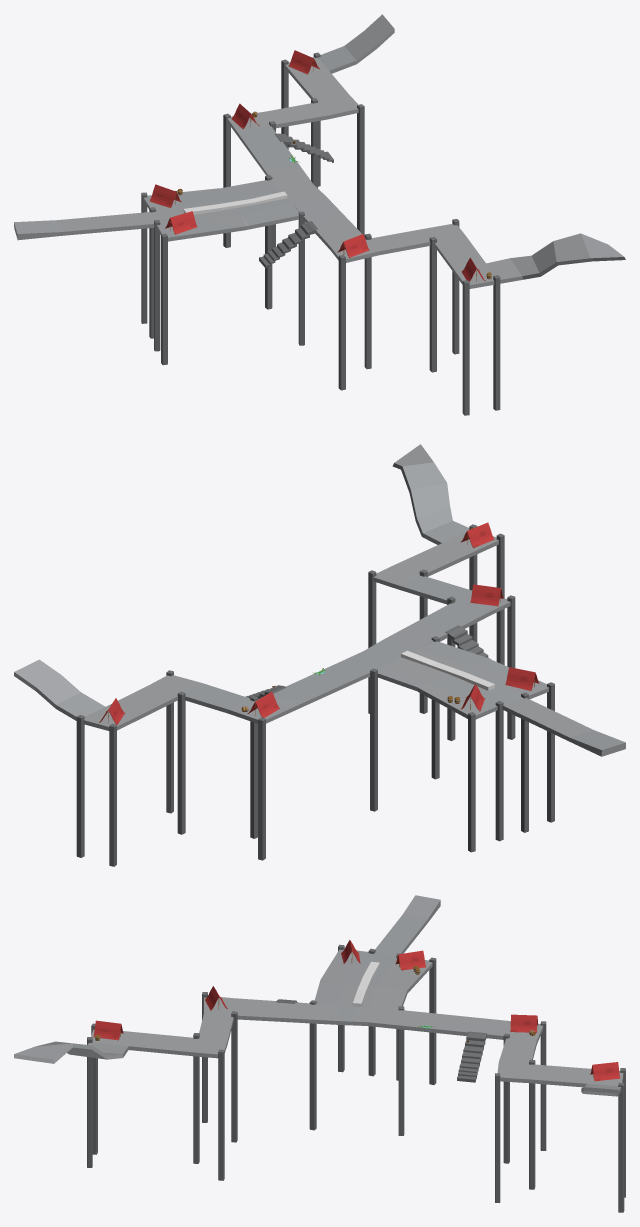
File: village1.glb
3 views of the same model, one above another, from view 1: azimuth 30°, elevation 25°; view 2: azimuth 150°, elevation 25°; view 3: azimuth 270°, elevation 25° (orthographic). The views are drawn at different scales.
Visible parts, largest first — view 1: Plane.002, Cube.018, Plane.005, Plane, Cube; view 2: Plane.002, Cube.018, Plane.005, Cube, Plane; view 3: Plane.002, Cube.018, Plane.005, Plane, Cube.
Part boxes in pixels (x1,y1,x2,y2): Plane.002: (14, 14, 625, 288); Cube.018: (141, 52, 500, 415); Plane.005: (149, 50, 485, 281); Plane: (259, 133, 333, 268); Cube: (183, 191, 287, 214); Plane.002: (14, 444, 625, 756); Cube.018: (76, 524, 554, 866); Plane.005: (99, 522, 539, 724); Cube: (401, 650, 494, 690); Plane: (245, 625, 490, 699); Plane.002: (14, 895, 623, 1096); Cube.018: (87, 944, 625, 1212); Plane.005: (93, 940, 620, 1081); Plane: (276, 999, 486, 1082); Cube: (353, 961, 379, 1006).
Bounding box in the file's own units: 25.23 × 8.42 × 29.35.
